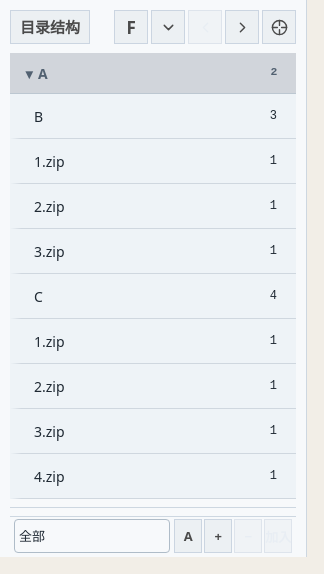
SidebarPanel image collapse interactions › 含图目录会计入父级直属媒体并随折叠隐藏
Expected: the text named "节点 2" is shown, top-left (270, 66), bottom-right (277, 78)
Double-click the button "▾ A 2" at [29, 73], box top-left (10, 53), bottom-right (296, 93)
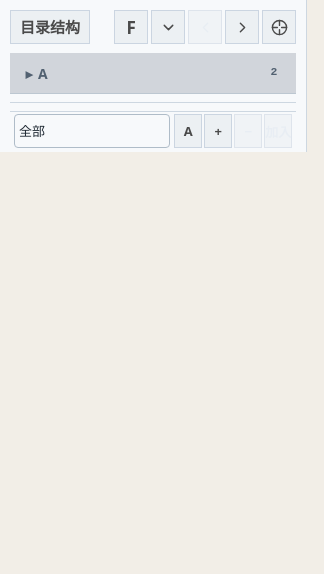
Result: the button "B" is gone
Result: the button "C" is gone
